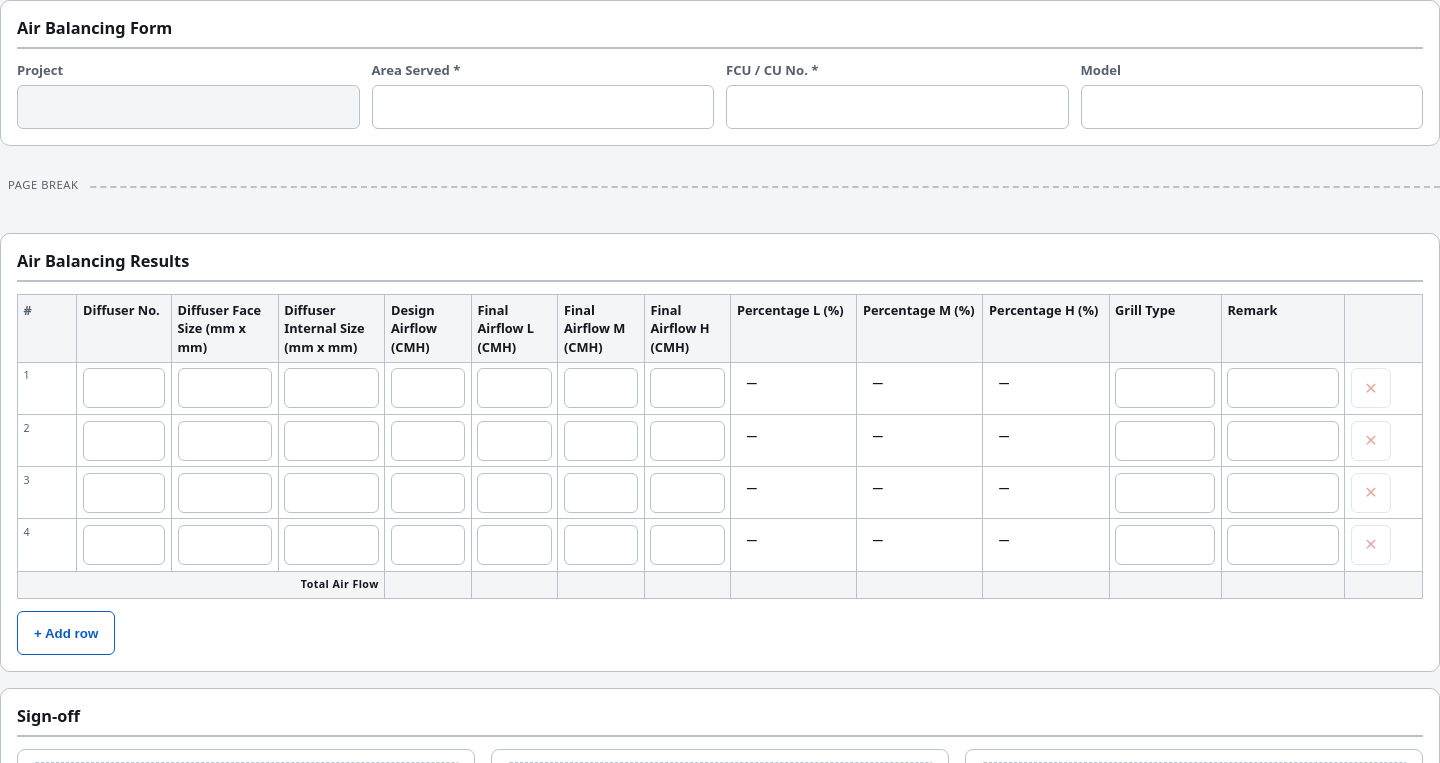
Test case: DX FCU Air Balancing template › computes a row's percentage and totals the table from its rows
Type "1120" into the number field named "Design Airflow row 1".
click(428, 388); type("1120")  # box [391, 368, 465, 408]
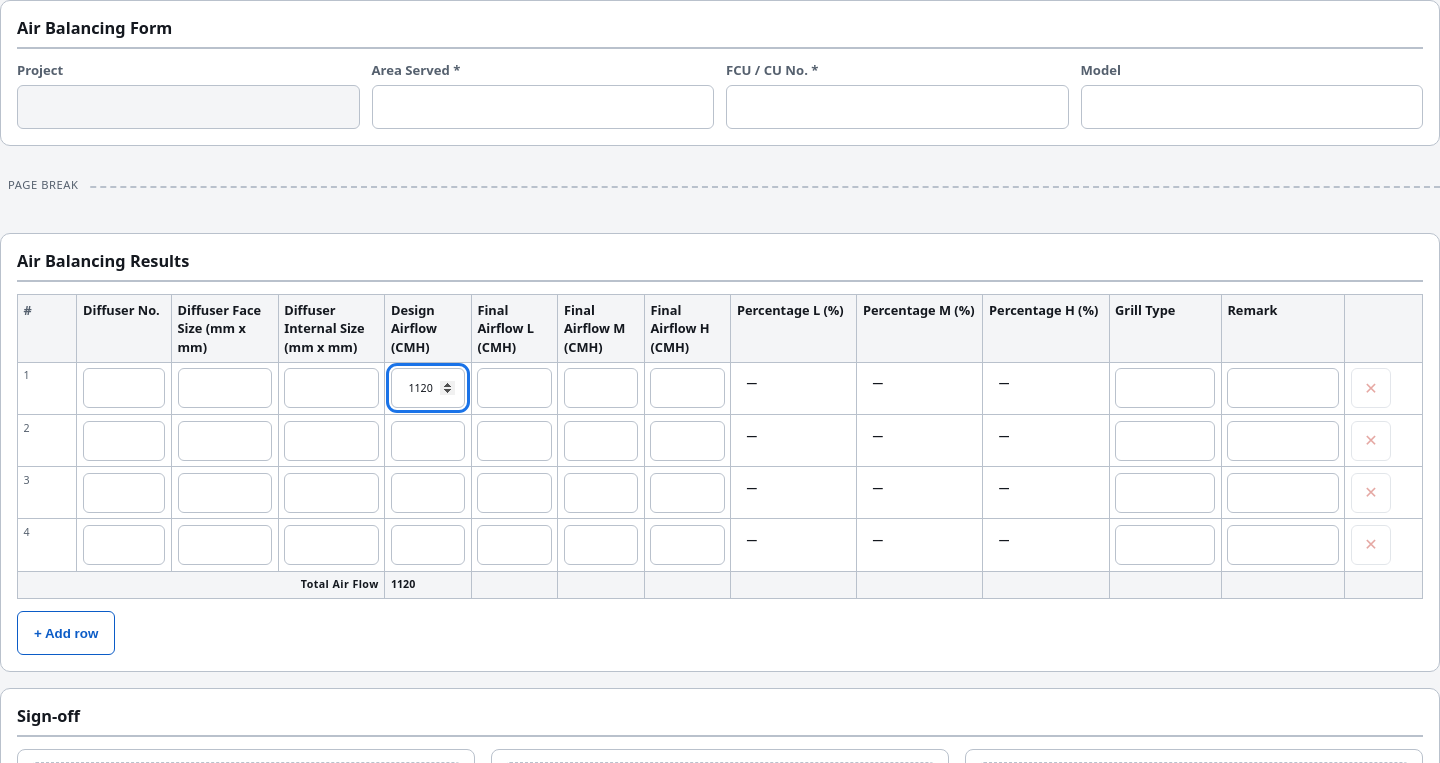
Type "956" into the number field named "Final Airflow H row 1".
click(688, 388); type("956")  # box [650, 368, 725, 408]
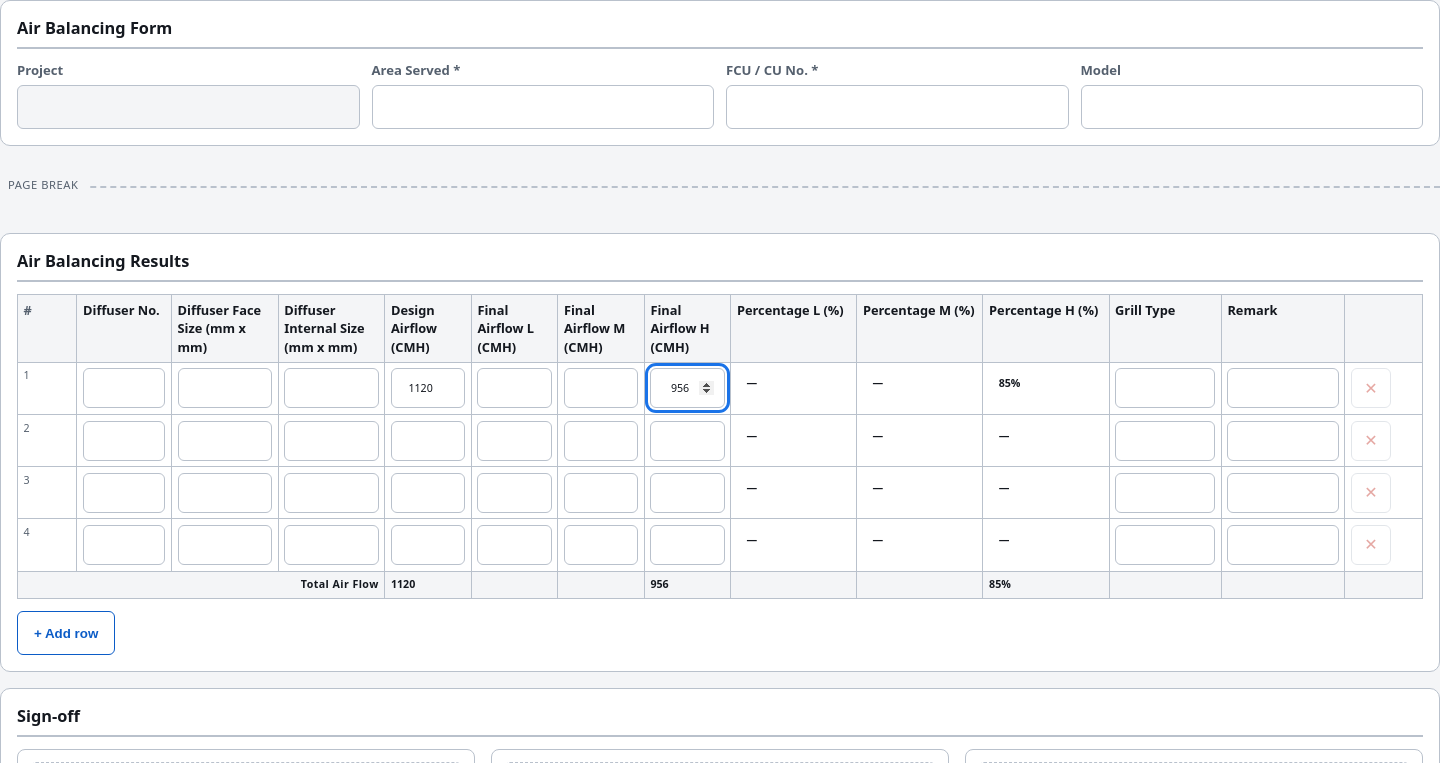
Expected: the text named "Percentage H row 1" reads "85%", [999, 376, 1020, 390]
